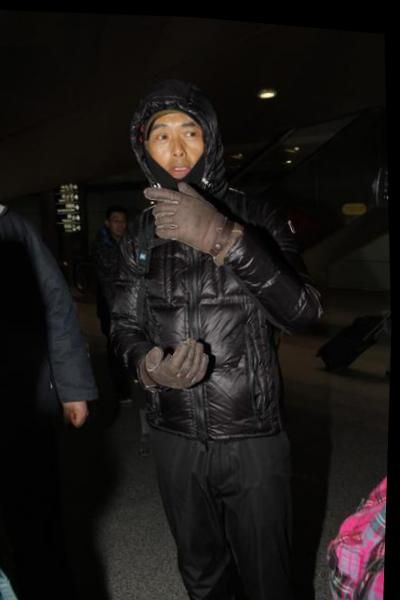NONE: (112, 212, 131, 235)
WRONG: (147, 106, 211, 191)
